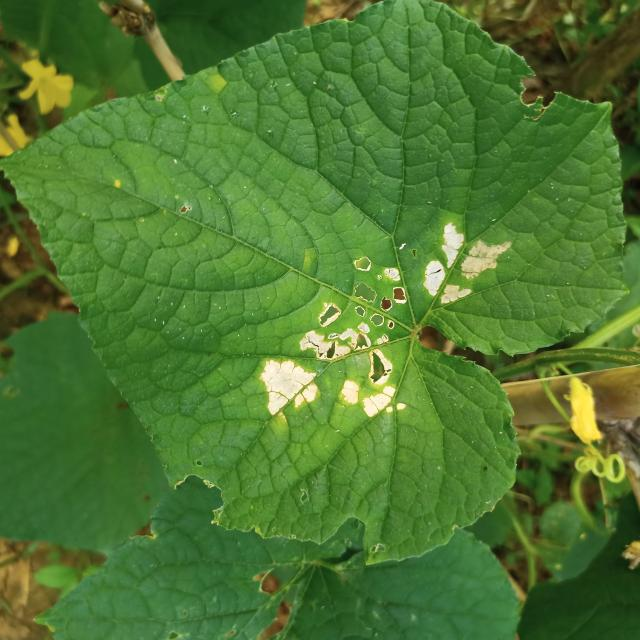disease_cucumber: (256, 246, 414, 435), (417, 216, 510, 314)
